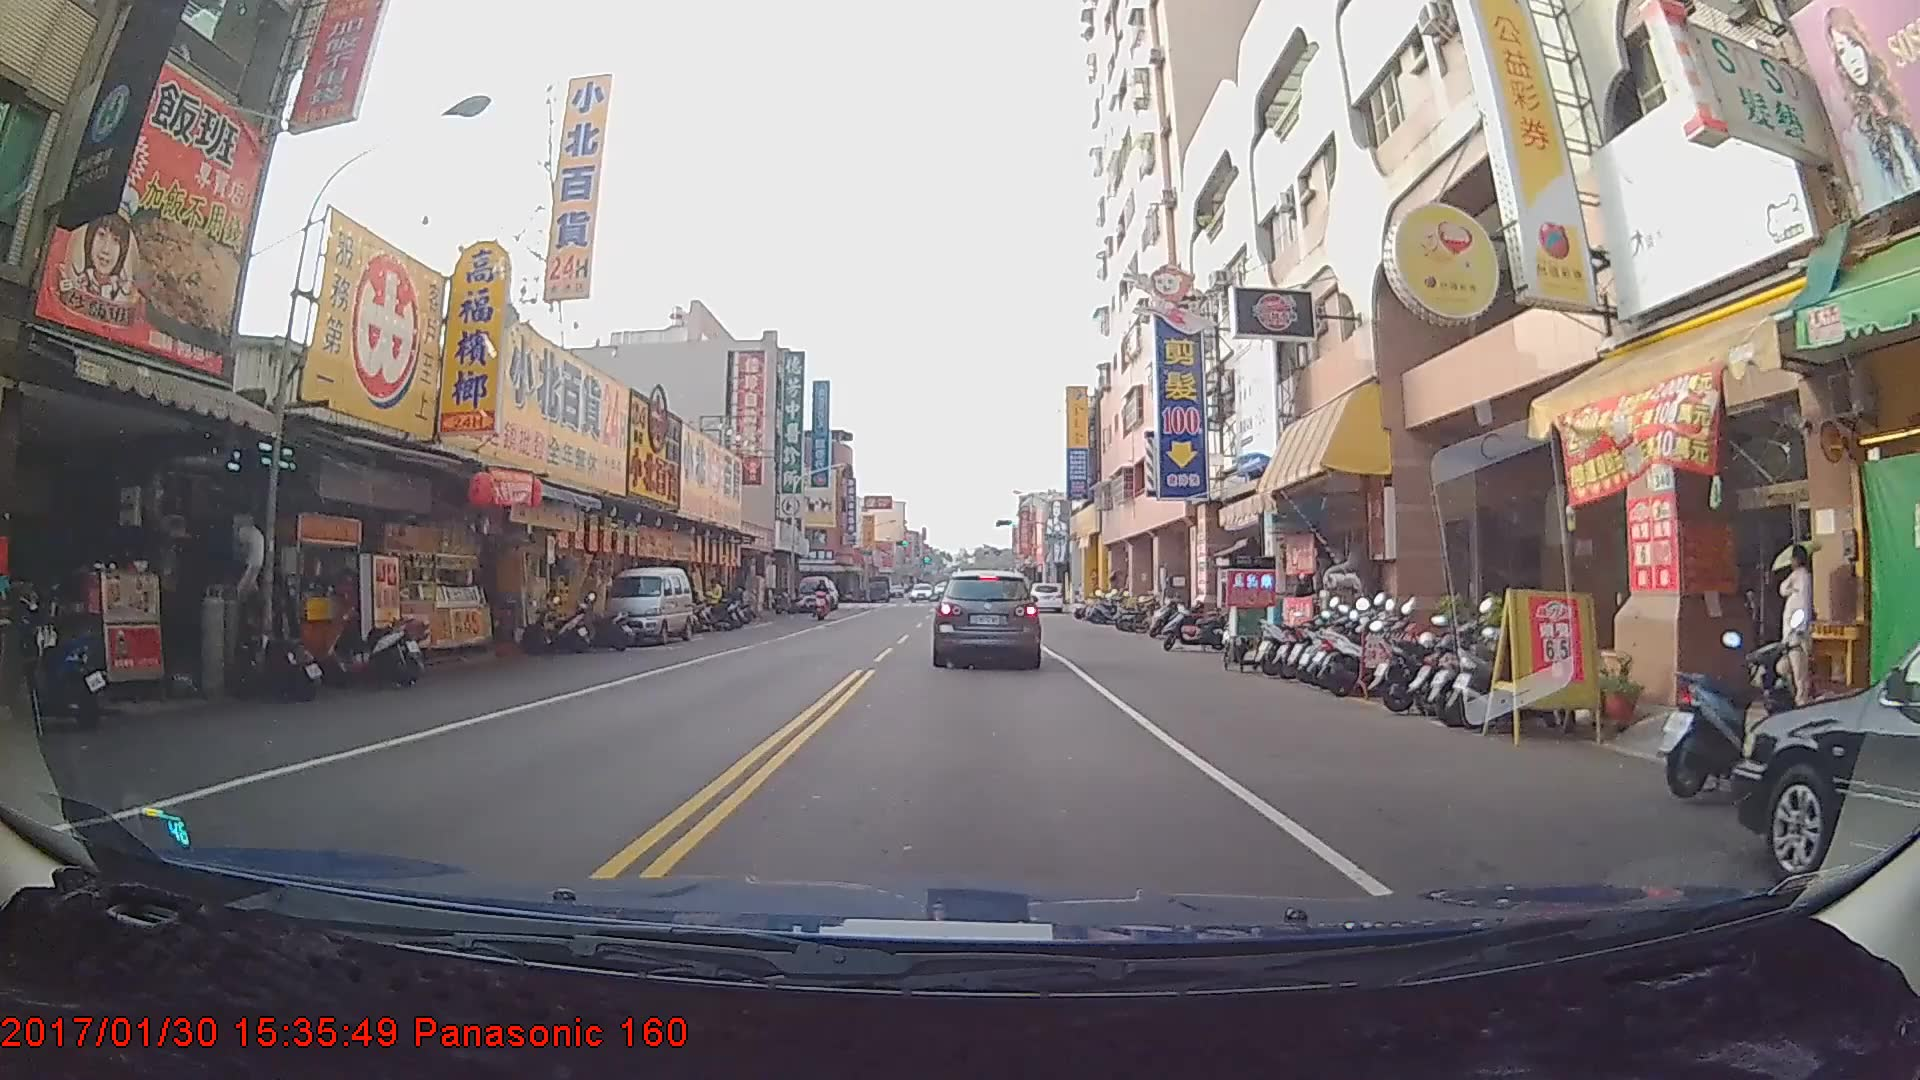pedestrian: (1764, 544, 1824, 721), (697, 575, 725, 626)
rider: (809, 575, 833, 621)
vehicle: (1730, 589, 1920, 963), (934, 567, 1042, 669), (596, 564, 692, 643), (798, 572, 833, 610), (1030, 583, 1063, 614)
